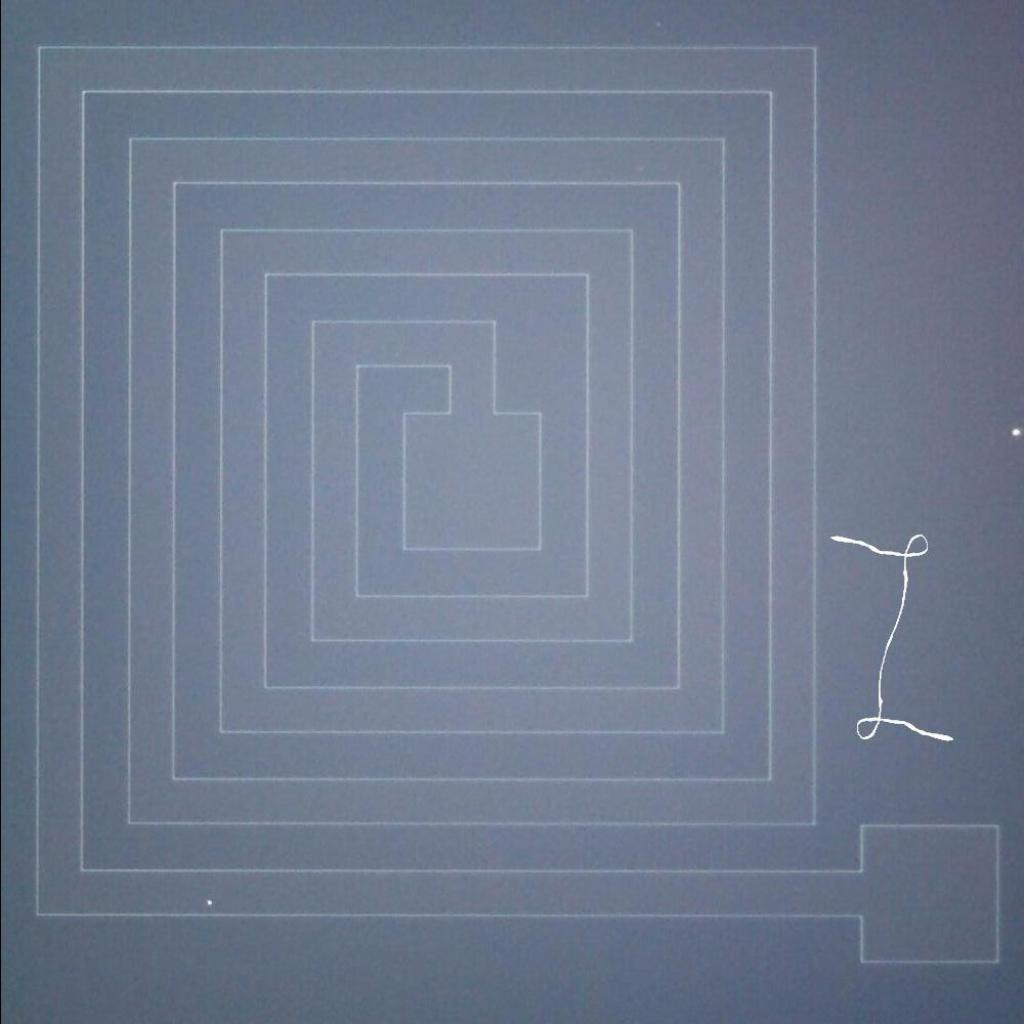dot: (193, 889, 223, 911), (1005, 418, 1023, 446)
line: (822, 525, 966, 759)
